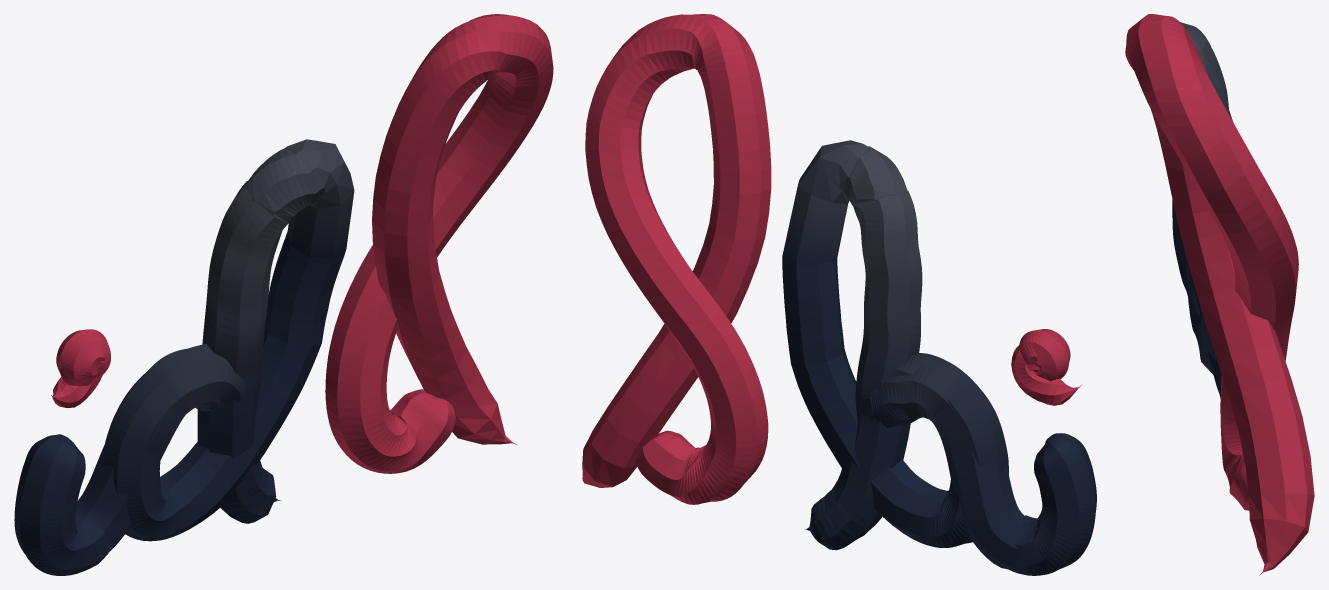
3 renders of one model, left to right at view 1: azimuth 30°, elevation 25°; view 2: azimuth 150°, elevation 25°; view 3: azimuth 270°, elevation 25°, orthographic. The views are drawn at different scales.
Visible parts, largest first — view 1: first_drawing; view 2: first_drawing; view 3: first_drawing.
Part boxes in pixels (x1,y1,x2,y2): first_drawing: [14, 14, 553, 575]; first_drawing: [582, 14, 1096, 575]; first_drawing: [1125, 14, 1314, 575].
Size of the model in its own units: 1.08 by 0.9443 by 0.3103.
